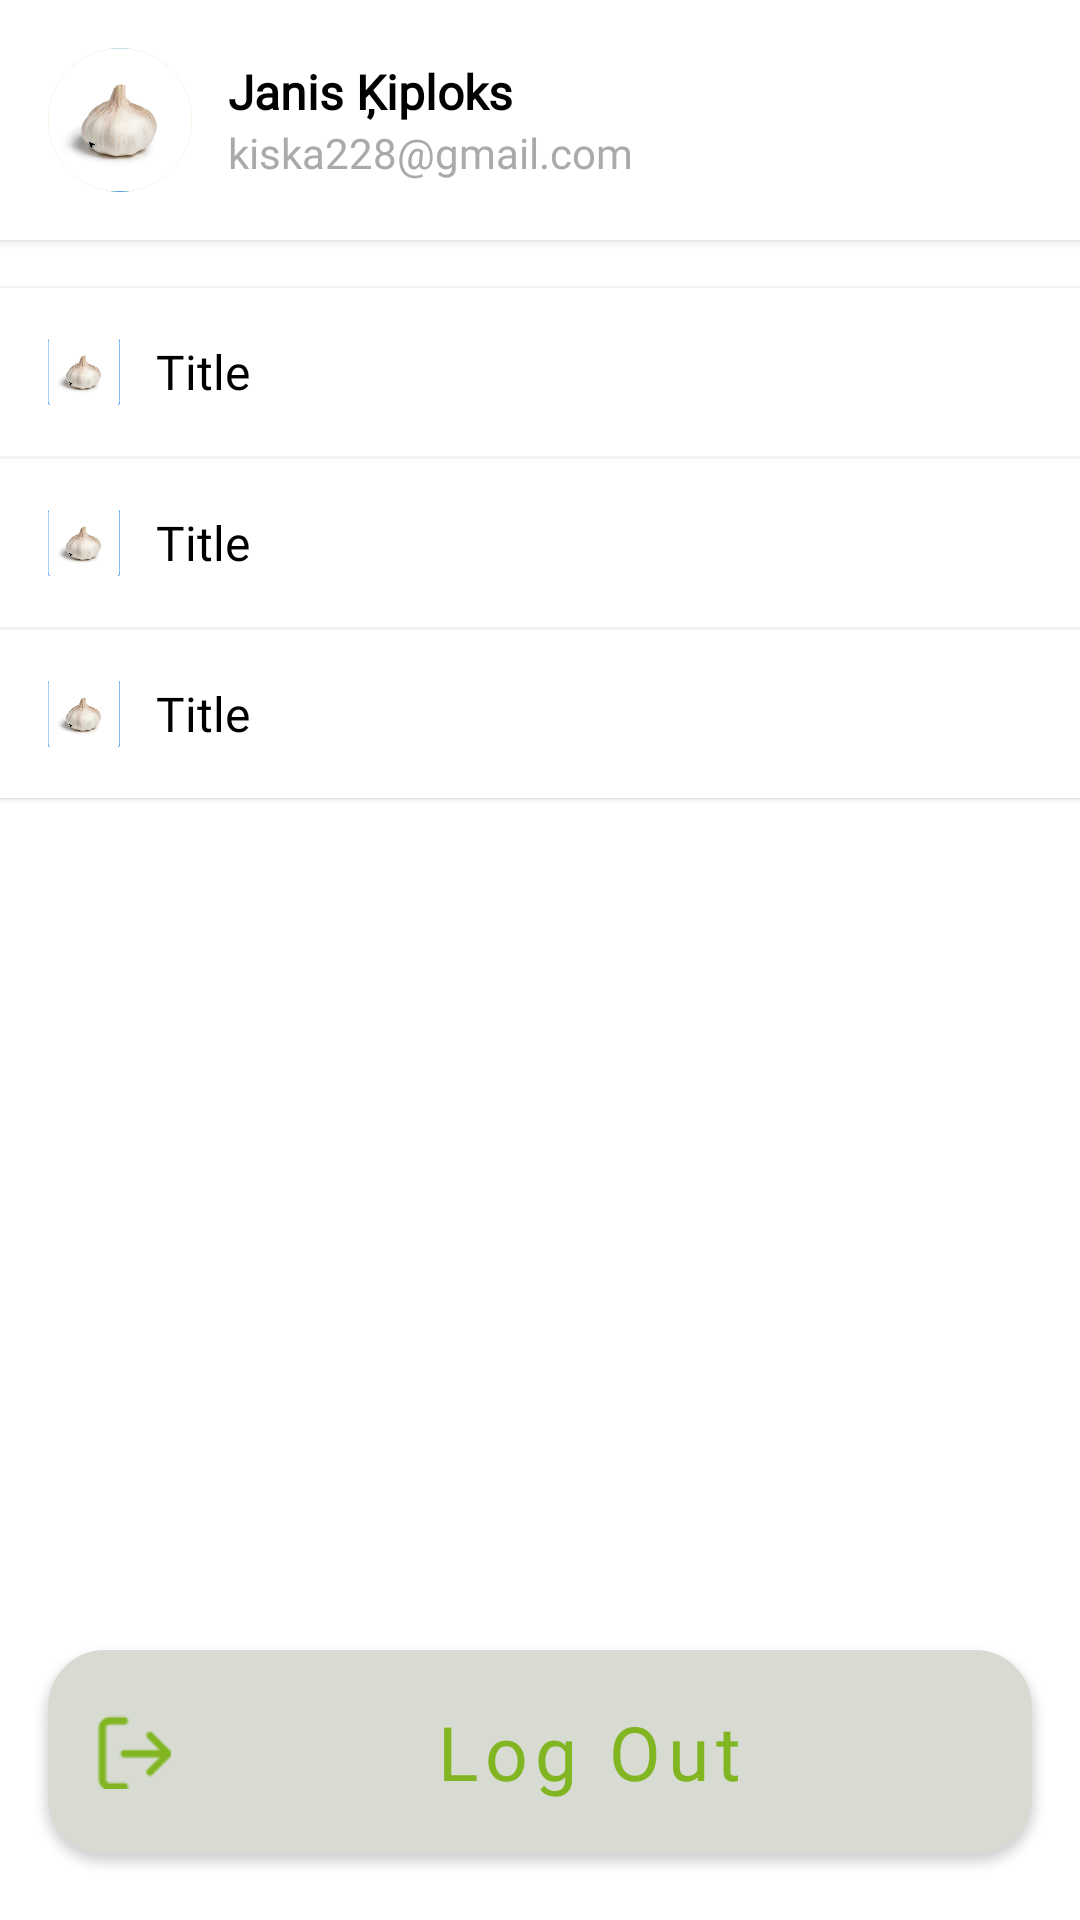

Icons on this 1080×1920 Android screen, each with the point to tap as [x,y]:
garlic: [120,120], [84,372], [84,543], [84,714]
